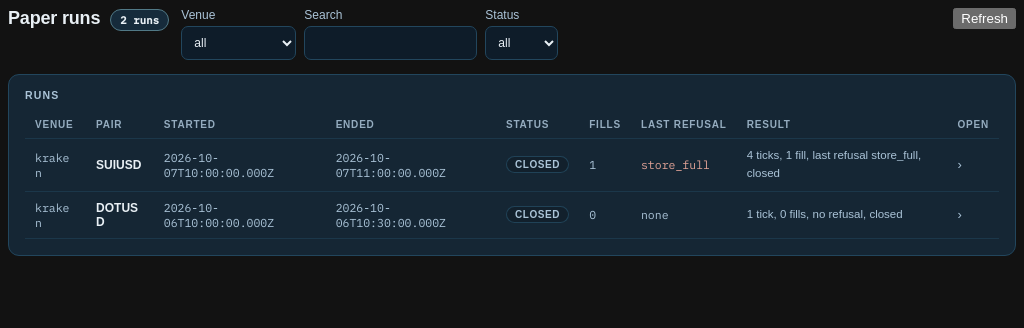
Test: LastRunsPanel — read-only Last runs table › keeps the last good table when a refresh fails
This screenshot has width=1024, height=328.
Expected: the table with test id "paper-last-runs-table" is shown, 25,111 -> 999,239
Click the button with test id "paper-last-runs-refresh": {"x": 985, "y": 18} 953,8 -> 1016,29
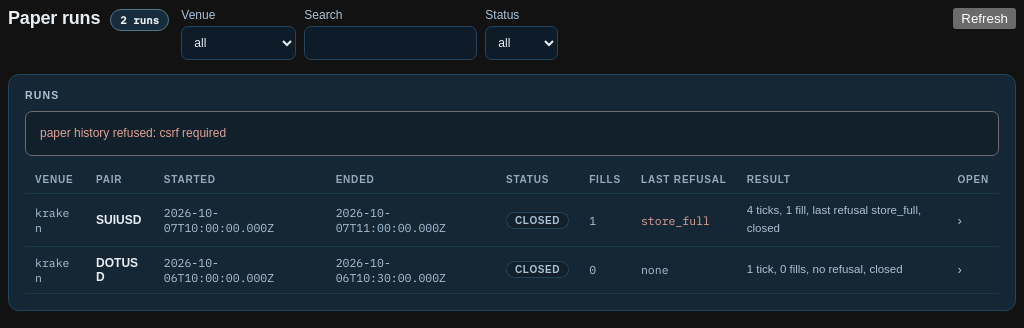
Expected: the table with test id "paper-last-runs-table" is shown, 25,166 -> 999,294
Expected: the text "paper history refused: csrf required" is shown, 25,111 -> 999,156
